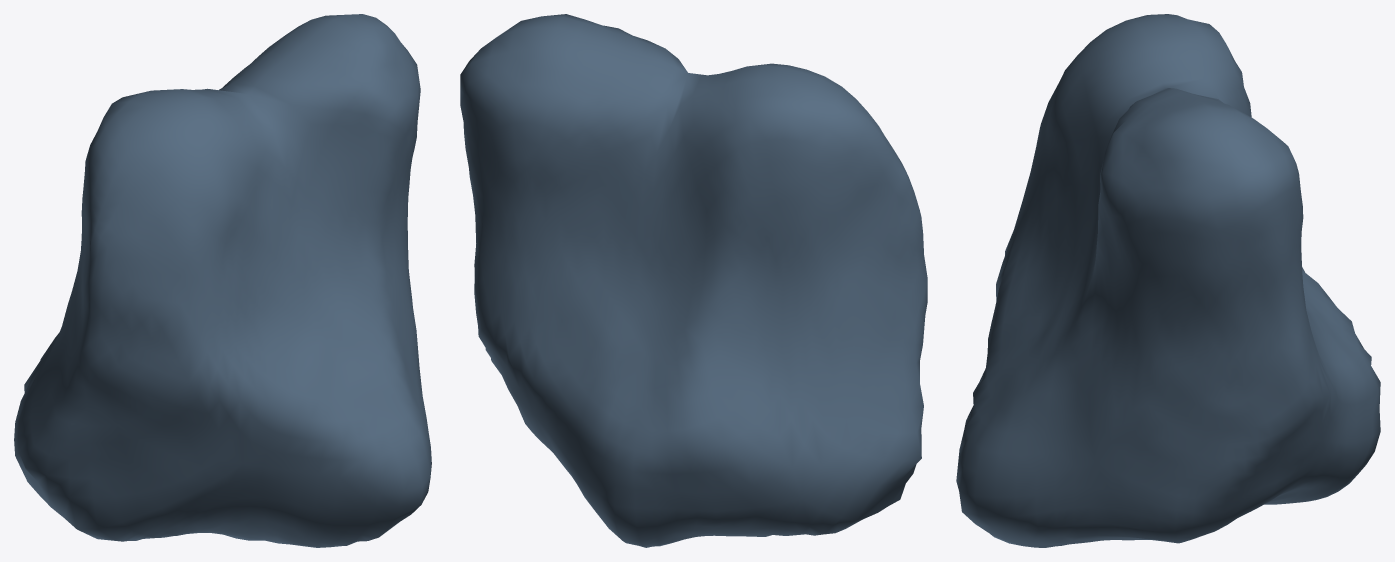
The model's file is batu kecil 2.fbx.
The picture shows the model from 3 angles, left to right: view 1: azimuth 30°, elevation 25°; view 2: azimuth 150°, elevation 25°; view 3: azimuth 270°, elevation 25°; orthographic projection. The views are drawn at different scales.
Visible parts, largest first — view 1: rock.021; view 2: rock.021; view 3: rock.021.
Boxes of the visible parts, x1=… form: rock.021: x1=14, y1=14, x2=431, y2=547; rock.021: x1=460, y1=14, x2=927, y2=547; rock.021: x1=956, y1=14, x2=1380, y2=547.
Size of the model in its own units: 425 by 456 by 358.
